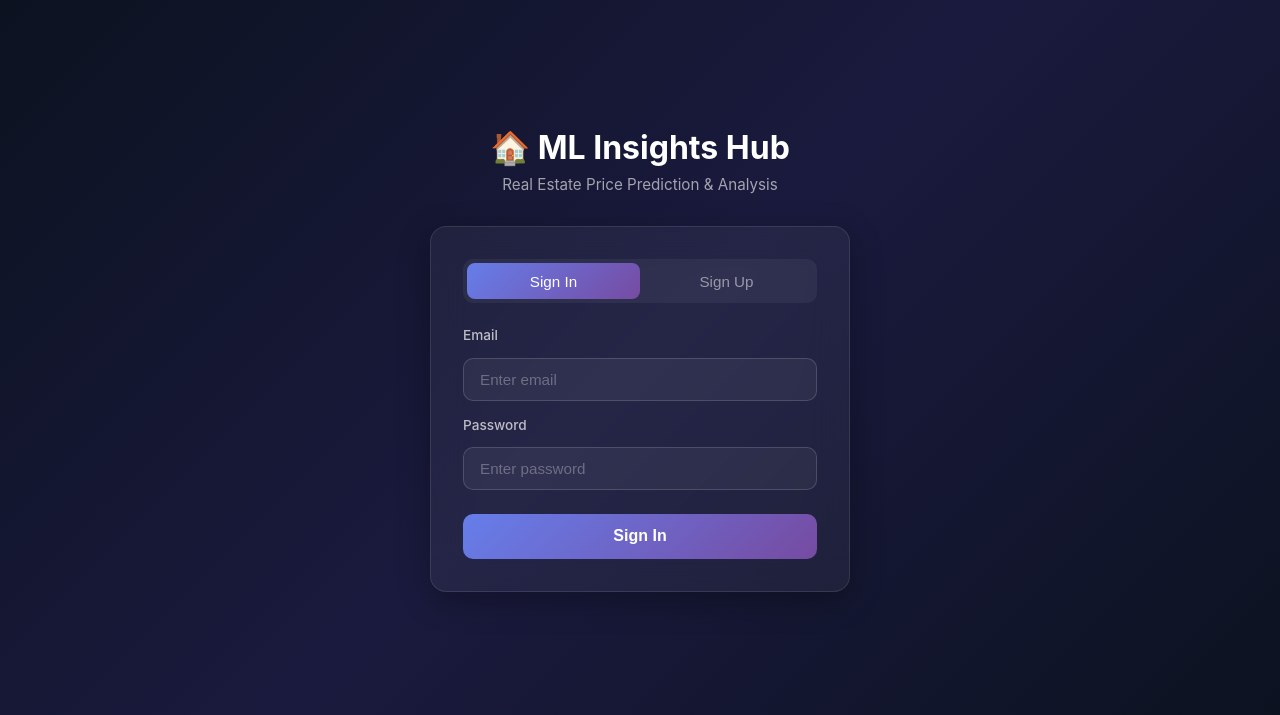
Test: AuthPage › shows validation error when passwords do not match during registration
Click the button "Sign Up" at (726, 281), box [640,263,813,299]
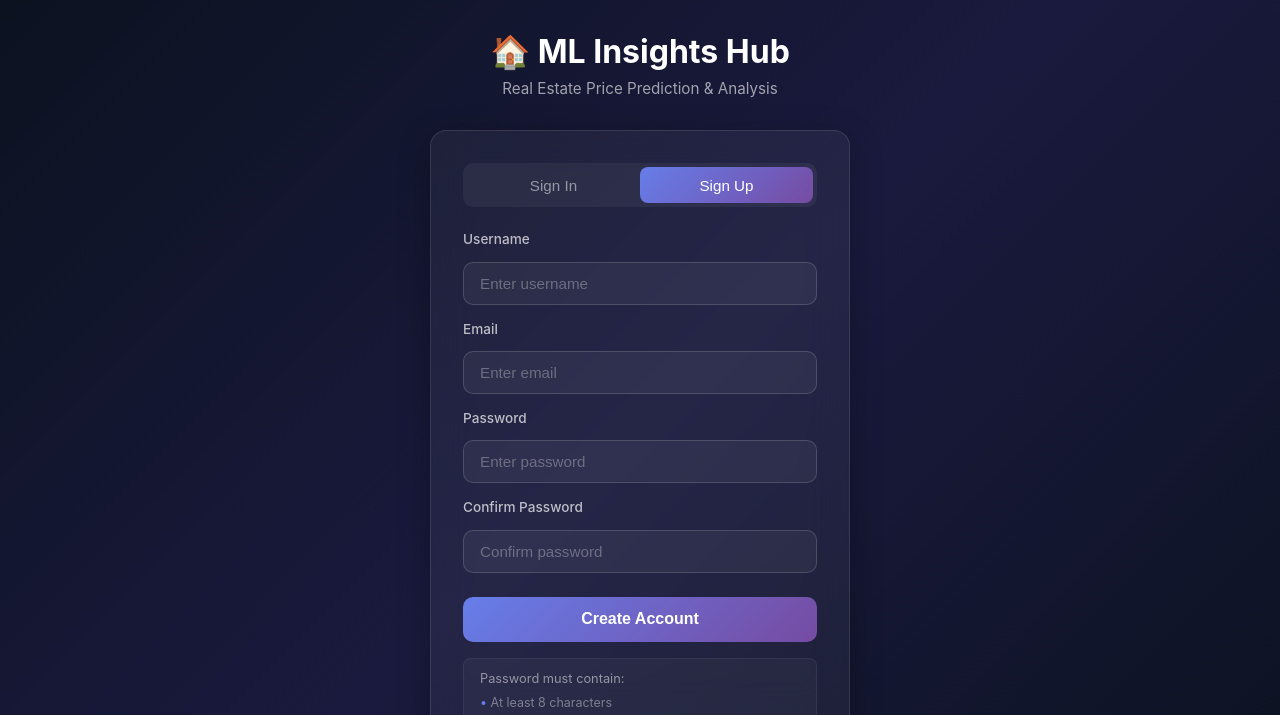
Type "testuser" into the field labelled "Username" at (640, 283), box [463,262,817,305]
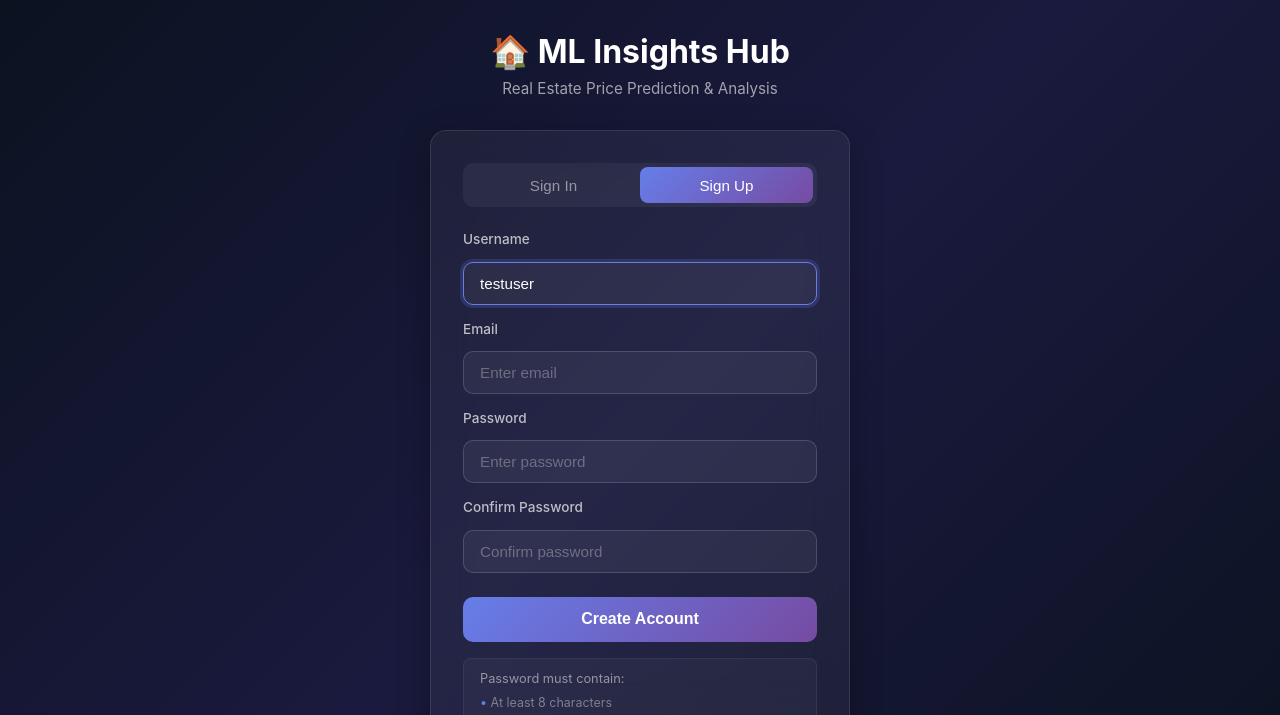
Type "test@example.com" into the field labelled "Email" at (640, 372), box [463,351,817,394]
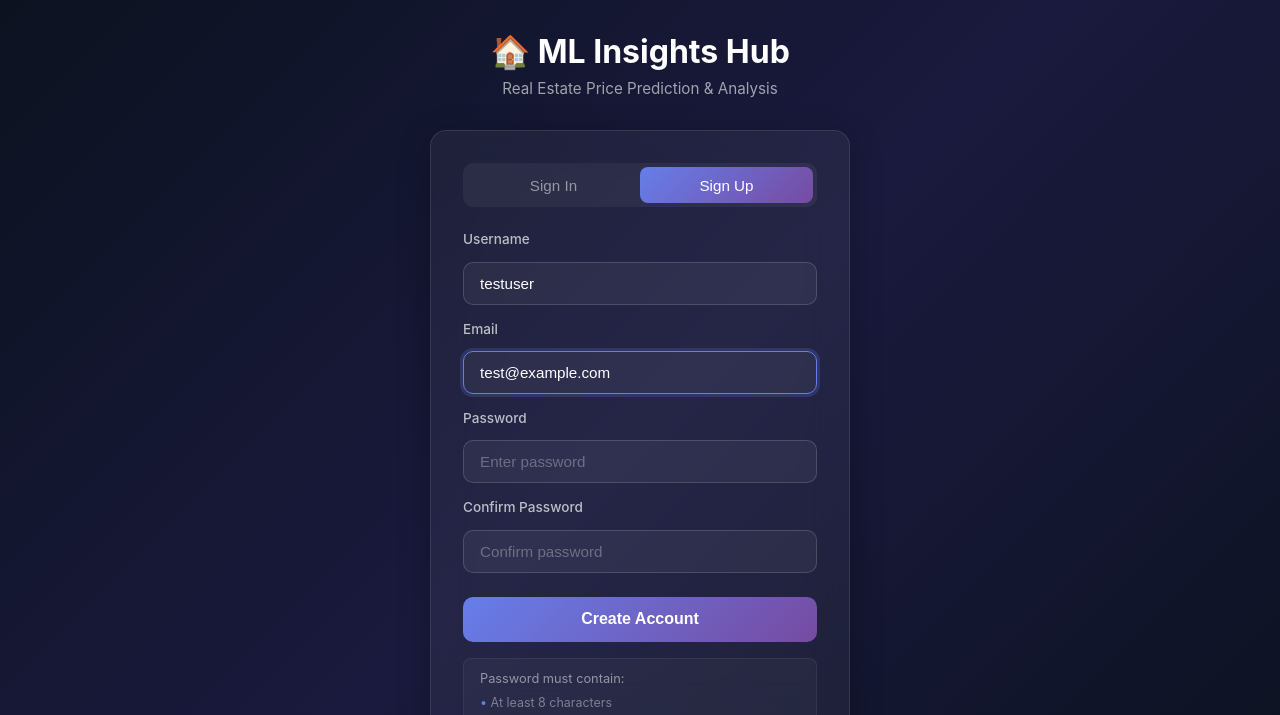
Type "StrongP@ss1" into the password field labelled "Password" at (640, 462), box [463,440,817,483]
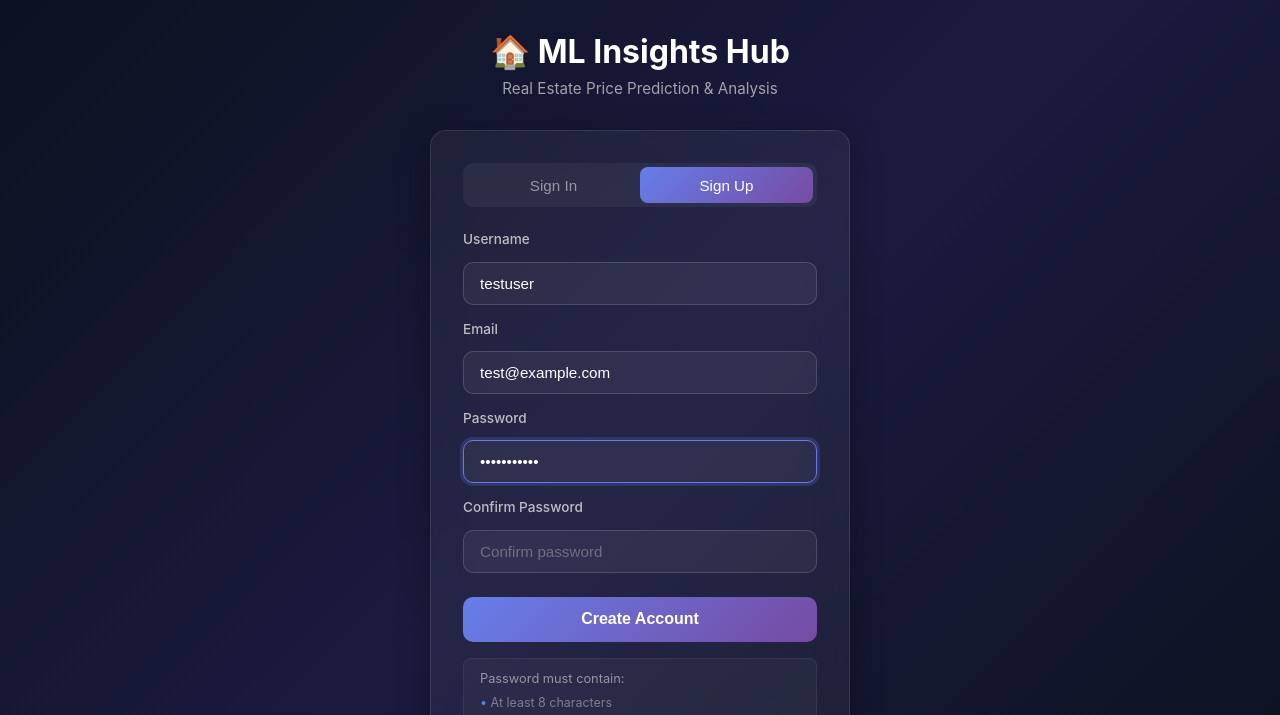
Type "DifferentP@ss1" into the password field labelled "Confirm Password" at (640, 551), box [463,530,817,573]
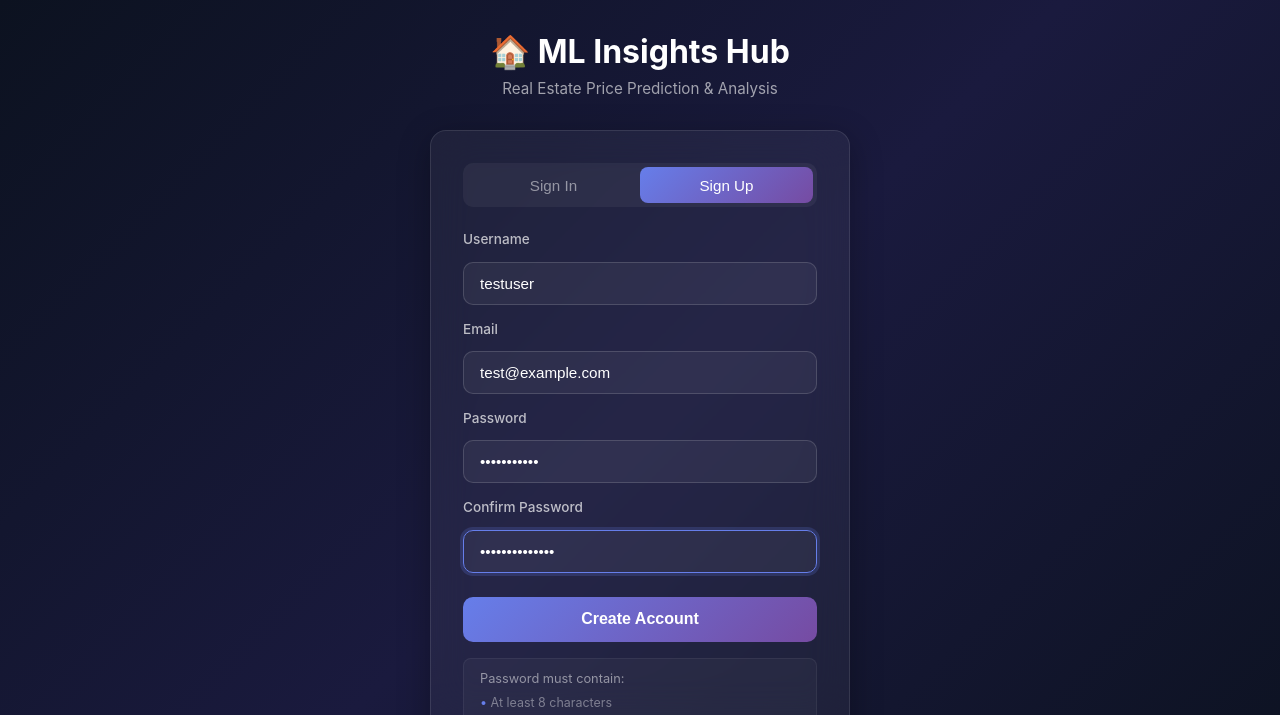
Click the button "Create Account" at (640, 619), box [463,597,817,642]
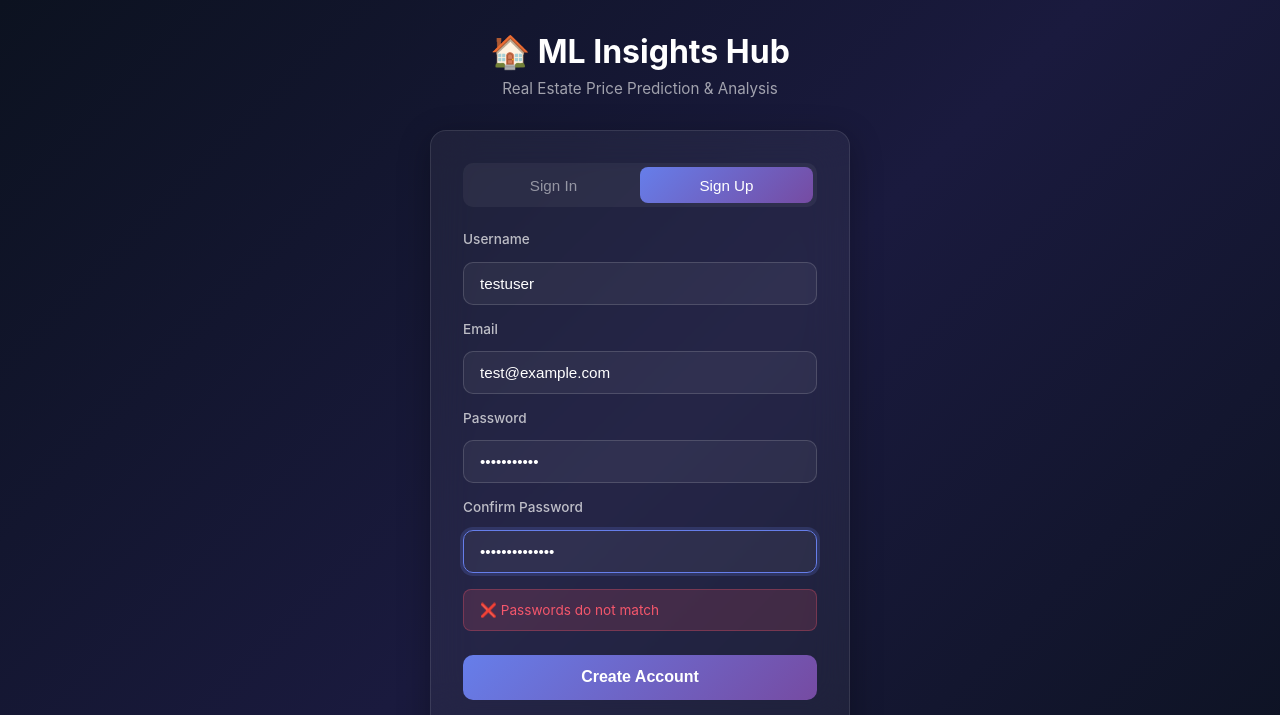
Expected: the text "❌ Passwords do not match" is shown, [480,602,659,618]
